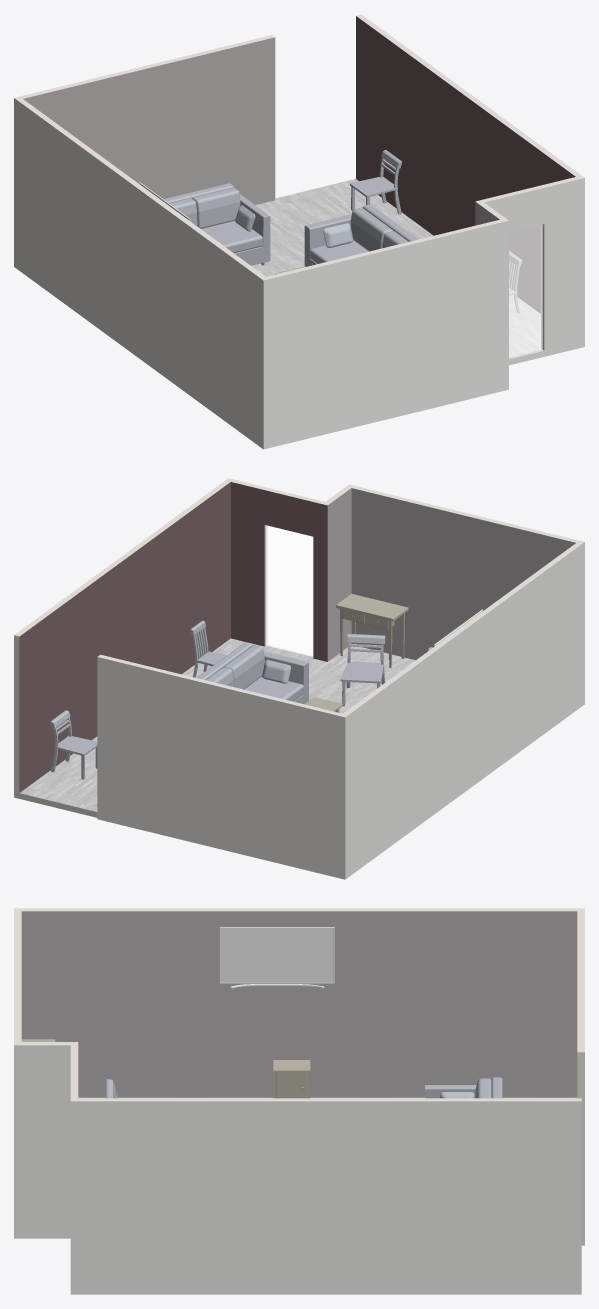
The model's file is Elks_Lodge_Cigar_Room.glb.
3 views of the same model, one above another, from view 1: azimuth 30°, elevation 25°; view 2: azimuth 150°, elevation 25°; view 3: azimuth 270°, elevation 25° (orthographic). The views are drawn at different scales.
Visible parts, largest first — view 1: wall_5, wall_2, wall_14, wall_6, wall_1, floor_Cigar_Room, sofa_rect1, door_0, door_2, sofa_rect0, wall_17, wall_7 (+4 smaller); view 2: wall_4, wall_5, wall_6, wall_10, wall_8, floor_Cigar_Room, door_0, door_2, sofa_rect0, wall_12, wall_7, table_other_rect0 (+8 smaller); view 3: wall_0, wall_16, wall_3, television0, wall_17, wall_15, wall_7, storage_cabinet_low10, sofa_rect1, wall_11, floor_Cigar_Room, joint_6 (+1 smaller).
Boxes of the visible parts, x1,y1,x2,y2 form: wall_5: [14, 98, 263, 449]; wall_2: [263, 220, 508, 449]; wall_14: [23, 37, 275, 204]; wall_6: [356, 16, 575, 313]; wall_1: [484, 178, 584, 365]; floor_Cigar_Room: [251, 179, 541, 357]; sofa_rect1: [163, 183, 270, 265]; door_0: [509, 225, 542, 357]; door_2: [509, 225, 542, 357]; sofa_rect0: [304, 204, 418, 266]; wall_17: [14, 98, 265, 280]; wall_7: [356, 14, 584, 177]; wall_4: [97, 657, 345, 879]; wall_5: [345, 542, 584, 879]; wall_6: [19, 482, 230, 792]; wall_10: [351, 488, 575, 660]; wall_8: [231, 482, 327, 661]; floor_Cigar_Room: [19, 638, 415, 811]; door_0: [266, 525, 312, 656]; door_2: [266, 525, 312, 656]; sofa_rect0: [197, 642, 308, 704]; wall_12: [327, 488, 351, 661]; wall_7: [14, 478, 230, 797]; table_other_rect0: [336, 593, 408, 667]; wall_0: [70, 1101, 581, 1294]; wall_16: [21, 911, 577, 1097]; wall_3: [14, 1045, 70, 1238]; television0: [219, 927, 334, 988]; wall_17: [15, 908, 583, 911]; wall_15: [577, 908, 584, 1245]; wall_7: [72, 1098, 581, 1101]; storage_cabinet_low10: [273, 1060, 310, 1098]; sofa_rect1: [425, 1077, 502, 1098]; wall_11: [14, 908, 21, 1044]; floor_Cigar_Room: [78, 1097, 576, 1098]; joint_6: [577, 1052, 584, 1245].
Size of the model in its own units: 6.07 by 2.83 by 7.58.
Materials: 27 (1 with a texture image).
